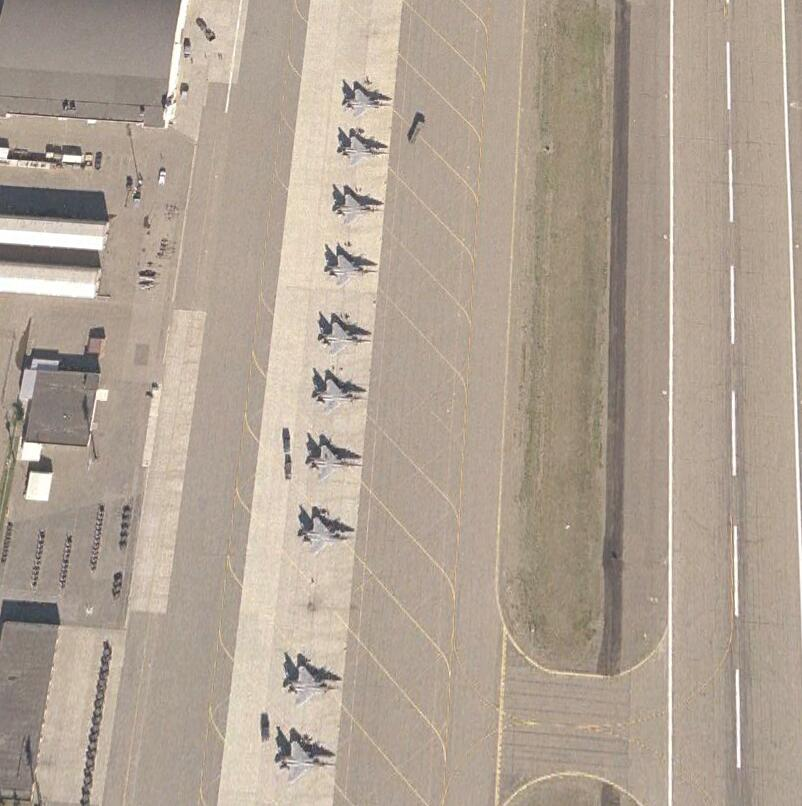A13: (276, 739, 338, 784), (286, 662, 344, 709), (318, 317, 375, 360), (306, 442, 363, 483), (299, 516, 350, 556), (325, 252, 377, 288), (337, 135, 392, 169), (315, 377, 365, 413), (343, 88, 391, 120), (332, 192, 379, 223)
